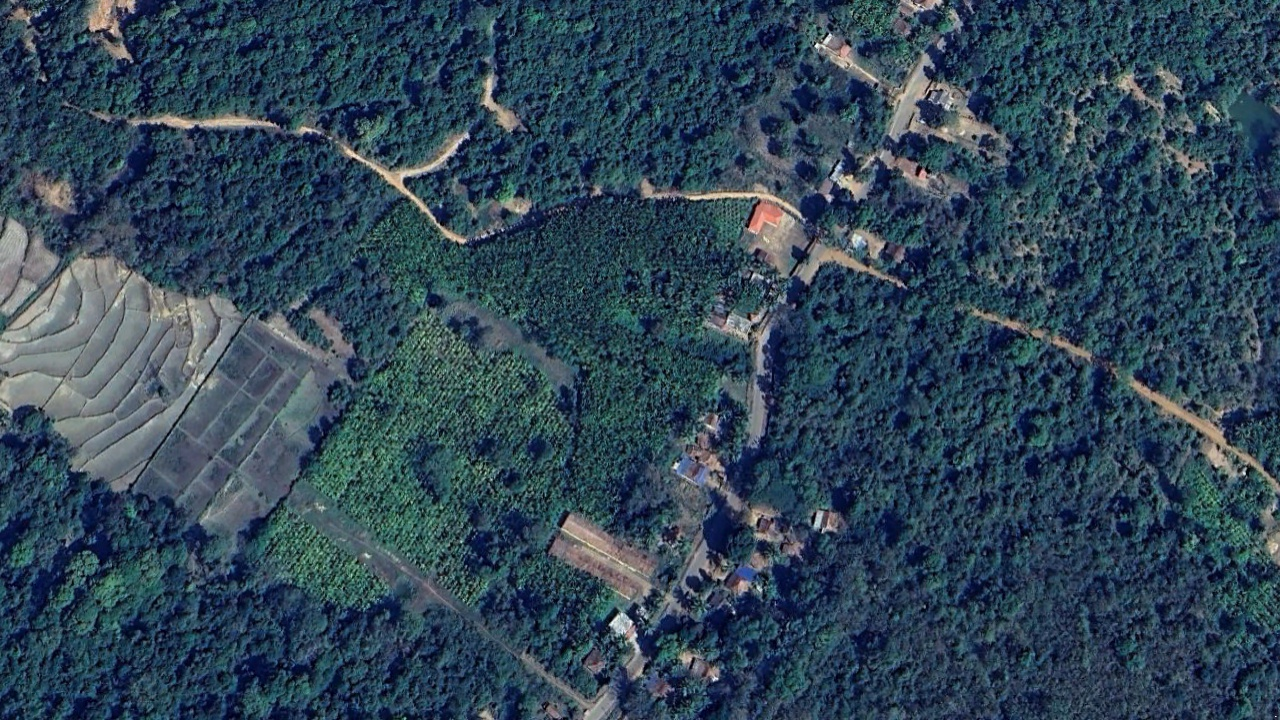arecanut: (260, 308, 540, 629), (363, 183, 723, 380), (567, 329, 707, 546)
